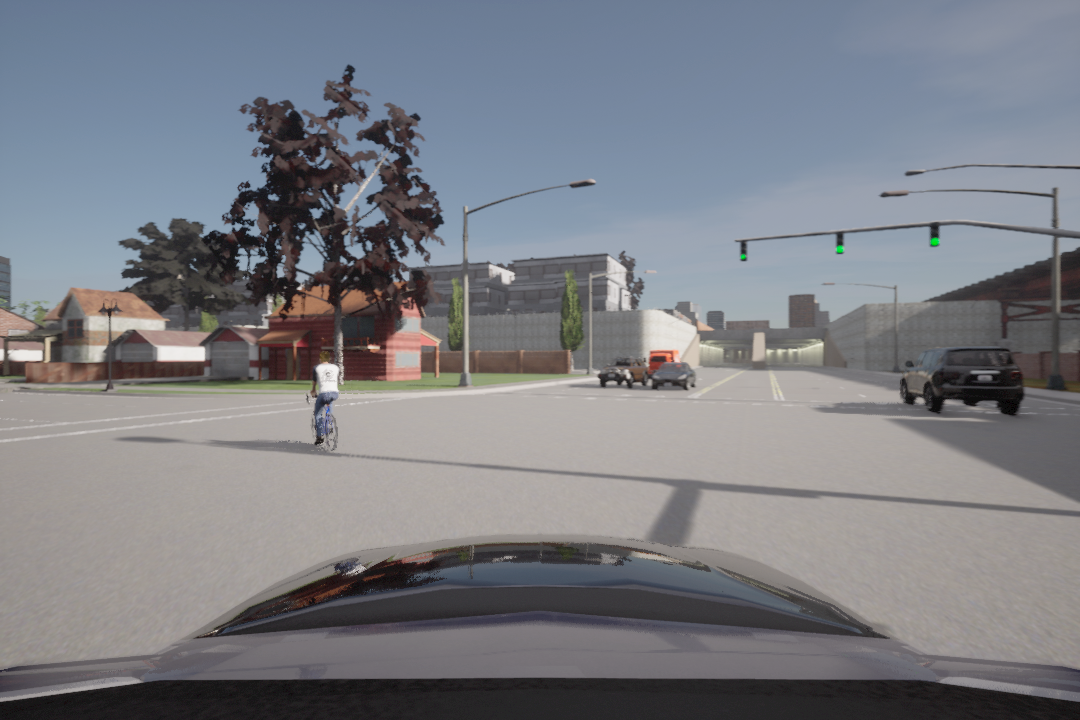TrafficLight: (735, 238, 750, 268), (836, 227, 846, 258), (929, 220, 939, 251)
